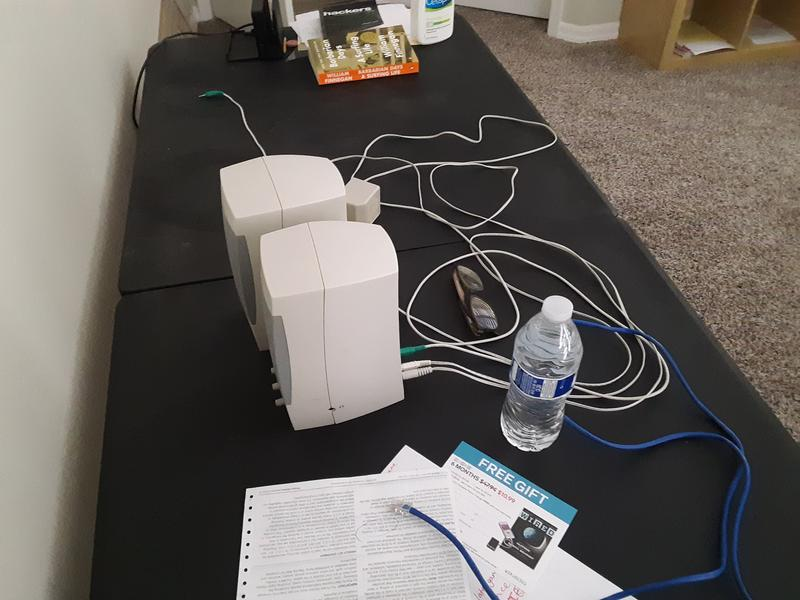glasses: (449, 258, 502, 341)
